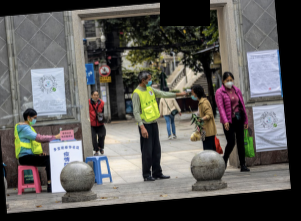mask_weared_incorrect: (91, 91, 99, 99)
with_mask: (223, 76, 233, 87), (144, 75, 152, 86), (189, 89, 197, 99), (29, 115, 36, 125)
